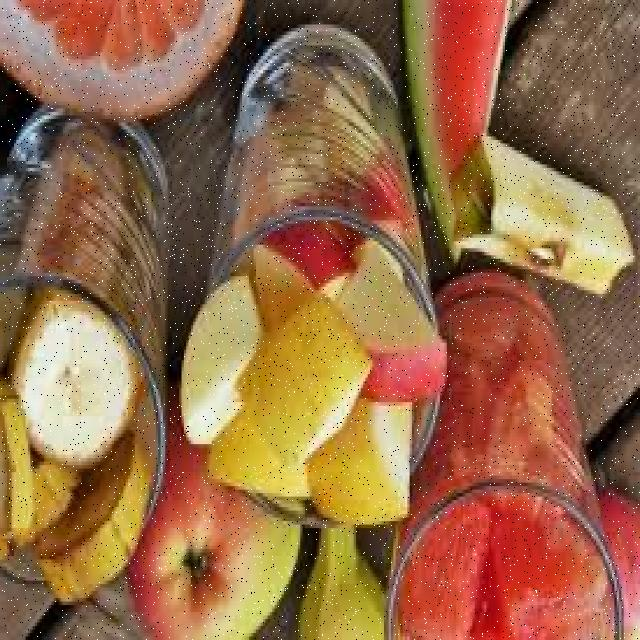Apple: (442, 120, 632, 308), (128, 430, 295, 637), (306, 402, 419, 535), (342, 272, 446, 402)
